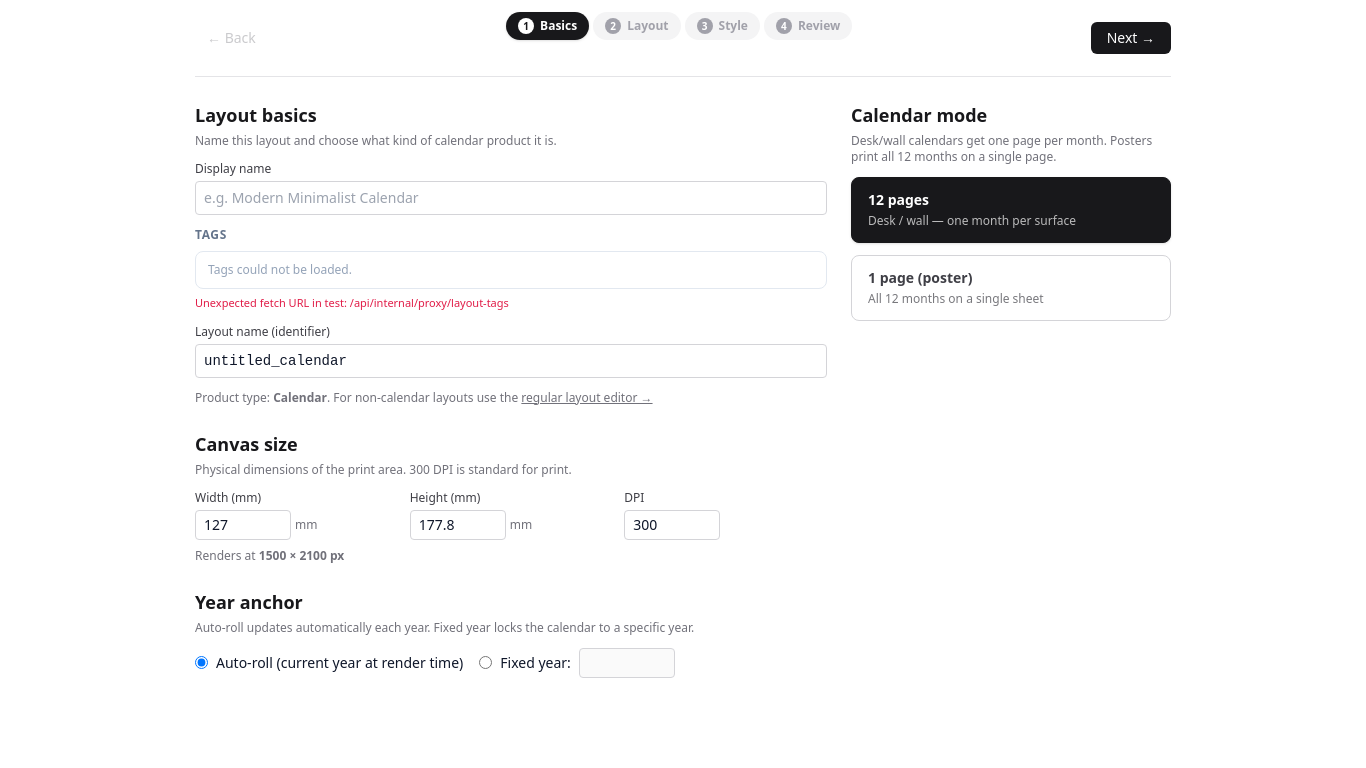
Scenario: CalendarLayoutEditor wrapper — save flow › shows the server error message when save fails
Click the button with test id "step-4" at x=808, y=26, box [764, 12, 852, 40]
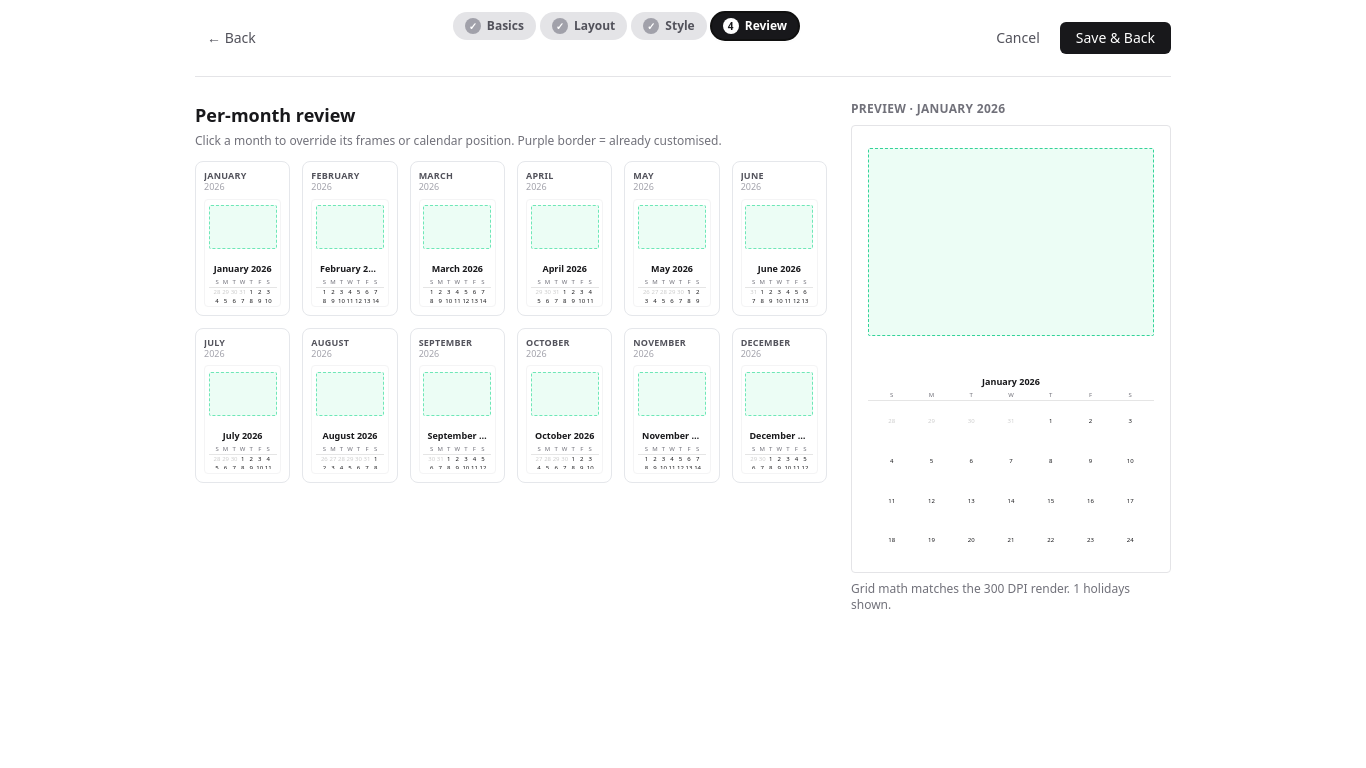
Click the button with test id "save-btn" at x=1115, y=38, box [1060, 22, 1171, 54]
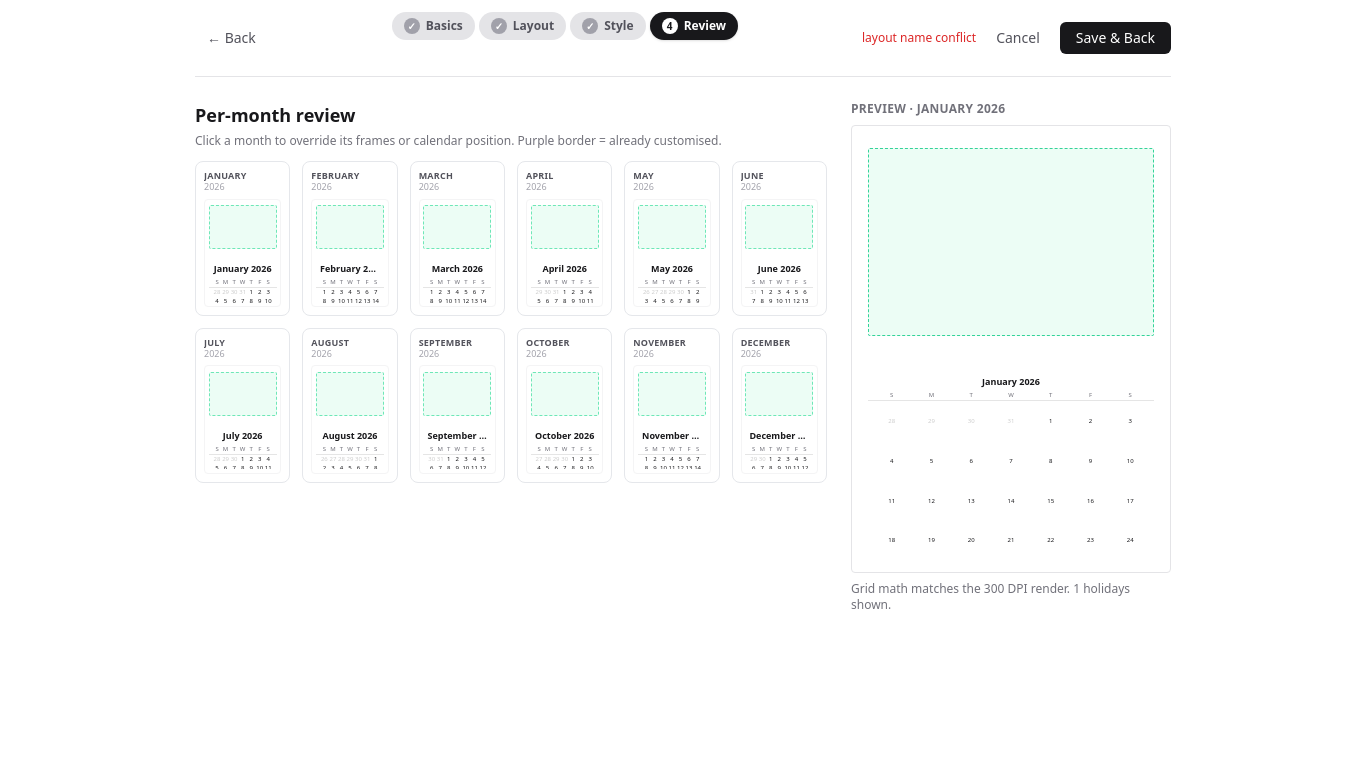
Now the text with test id "save-error" reads "layout name conflict", box [862, 29, 976, 46]
